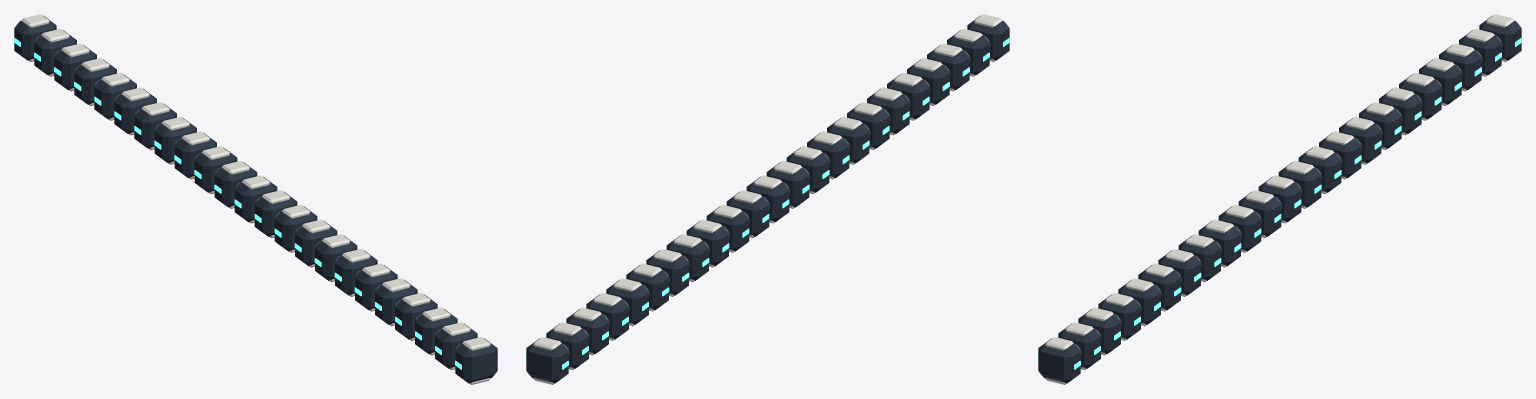
File: session_spine.glb
The picture shows the model from 3 angles, left to right: view 1: azimuth 30°, elevation 25°; view 2: azimuth 150°, elevation 25°; view 3: azimuth 330°, elevation 25°; orthographic projection.
Parts seen in each view (by area): view 1: session_spine__session_node_01, session_spine__session_node_10, session_spine__session_node_13, session_spine__session_node_12, session_spine__session_node_11, session_spine__session_node_14, session_spine__session_node_16, session_spine__session_node_15, session_spine__session_node_18, session_spine__session_node_19, session_spine__session_node_17, session_spine__session_node_20 (+11 smaller); view 2: session_spine__session_node_23, session_spine__session_node_14, session_spine__session_node_11, session_spine__session_node_12, session_spine__session_node_13, session_spine__session_node_10, session_spine__session_node_08, session_spine__session_node_06, session_spine__session_node_09, session_spine__session_node_05, session_spine__session_node_03, session_spine__session_node_04 (+11 smaller); view 3: session_spine__session_node_01, session_spine__session_node_10, session_spine__session_node_13, session_spine__session_node_12, session_spine__session_node_11, session_spine__session_node_14, session_spine__session_node_16, session_spine__session_node_15, session_spine__session_node_18, session_spine__session_node_19, session_spine__session_node_17, session_spine__session_node_20 (+11 smaller).
Boxes of the visible parts, x1,y1,x2,y2 form: session_spine__session_node_01: (455, 338, 497, 383); session_spine__session_node_10: (274, 206, 317, 251); session_spine__session_node_13: (214, 162, 257, 207); session_spine__session_node_12: (234, 176, 277, 222); session_spine__session_node_11: (254, 191, 297, 236); session_spine__session_node_14: (194, 147, 237, 192); session_spine__session_node_16: (154, 118, 196, 163); session_spine__session_node_15: (174, 132, 216, 178); session_spine__session_node_18: (114, 88, 156, 133); session_spine__session_node_19: (94, 74, 136, 119); session_spine__session_node_17: (134, 103, 176, 148); session_spine__session_node_20: (74, 59, 116, 104); session_spine__session_node_23: (526, 338, 568, 383); session_spine__session_node_14: (706, 206, 749, 251); session_spine__session_node_11: (766, 162, 809, 207); session_spine__session_node_12: (746, 176, 789, 222); session_spine__session_node_13: (726, 191, 769, 236); session_spine__session_node_10: (786, 147, 829, 192); session_spine__session_node_08: (827, 118, 869, 163); session_spine__session_node_06: (867, 88, 909, 133); session_spine__session_node_09: (807, 132, 849, 178); session_spine__session_node_05: (887, 74, 929, 119); session_spine__session_node_03: (927, 45, 969, 89); session_spine__session_node_04: (907, 59, 949, 104); session_spine__session_node_01: (1038, 338, 1080, 383); session_spine__session_node_10: (1218, 206, 1261, 251); session_spine__session_node_13: (1278, 162, 1321, 207); session_spine__session_node_12: (1258, 176, 1301, 222); session_spine__session_node_11: (1238, 191, 1281, 236); session_spine__session_node_14: (1298, 147, 1341, 192); session_spine__session_node_16: (1339, 118, 1381, 163); session_spine__session_node_15: (1319, 132, 1361, 178); session_spine__session_node_18: (1379, 88, 1421, 133); session_spine__session_node_19: (1399, 74, 1441, 119); session_spine__session_node_17: (1359, 103, 1401, 148); session_spine__session_node_20: (1419, 59, 1461, 104).
Bounding box in the file's own units: 0.7 × 0.7 × 15.
